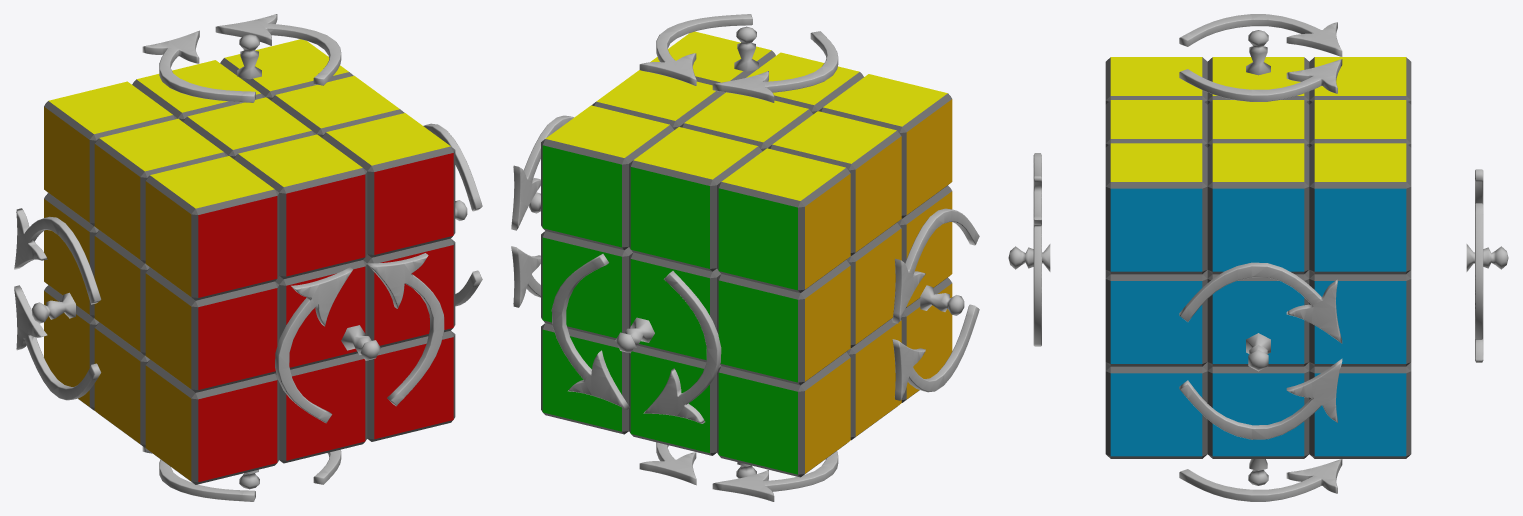
File: rubiksCube_2.fbx
3 renders of one model, left to right at view 1: azimuth 30°, elevation 25°; view 2: azimuth 150°, elevation 25°; view 3: azimuth 270°, elevation 25°, orthographic.
Visible parts, largest first — view 1: MF__1_1_1, MF__1__1_1, MF__1_0_1, MF_0_1_1, MF_1_1_1, MF__1_1_0, MF__1_1__1, MF_0__1_1, MF_1__1_1, MF_1_0_1, MF_0_0_1, MF__1__1_0 (+18 smaller); view 2: MF__1_1__1, MF__1__1__1, MF__1_0__1, MF_0_1__1, MF_1_1__1, MF__1_1_1, MF__1_1_0, MF_1_0__1, MF_0_0__1, MF_0__1__1, MF_1__1__1, MF__1_0_0 (+20 smaller); view 3: MF_1_1__1, MF_1_1_1, MF_1_1_0, MF_1__1_1, MF_1_0_1, MF_1__1__1, MF_1_0__1, MF_1__1_0, MF_1_0_0, MF_0_1__1, MF_0_1_1, MF_0_1_0 (+14 smaller).
Boxes of the visible parts, x1,y1,x2,y2 form: MF__1_1_1: (145,156,279,300); MF__1__1_1: (145,360,279,484); MF__1_0_1: (145,267,279,392); MF_0_1_1: (234,134,367,278); MF_1_1_1: (322,113,455,257); MF__1_1_0: (94,118,228,263); MF__1_1__1: (44,81,177,226); MF_0__1_1: (275,353,367,463); MF_1__1_1: (367,330,455,441); MF_1_0_1: (363,238,455,347); MF_0_0_1: (275,260,367,369); MF__1__1_0: (94,322,149,447); MF__1_1__1: (717,148,850,292); MF__1__1__1: (717,352,850,477); MF__1_0__1: (717,260,850,385); MF_0_1__1: (629,127,762,271); MF_1_1__1: (541,105,674,250); MF__1_1_1: (819,74,952,218); MF__1_1_0: (768,111,901,255); MF_1_0__1: (541,231,632,339); MF_0_0__1: (629,252,720,362); MF_0__1__1: (629,345,720,455); MF_1__1__1: (541,323,628,434); MF__1_0_0: (846,223,901,347); MF_1_1__1: (1309,143,1411,274); MF_1_1_1: (1105,143,1207,274); MF_1_1_0: (1207,143,1309,274); MF_1__1_1: (1105,362,1207,458); MF_1_0_1: (1105,270,1207,366); MF_1__1__1: (1309,362,1411,458); MF_1_0__1: (1309,270,1411,366); MF_1__1_0: (1207,362,1309,458); MF_1_0_0: (1207,270,1309,366); MF_0_1__1: (1309,100,1411,147); MF_0_1_1: (1105,100,1207,147); MF_0_1_0: (1207,100,1309,147).
Bounding box in the file's own units: 4.91 × 4.91 × 4.91.
